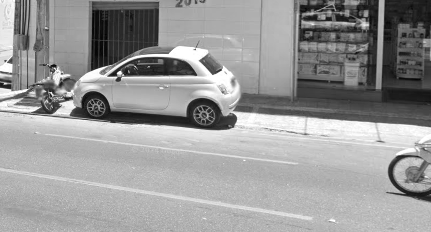car: (71, 37, 245, 130)
